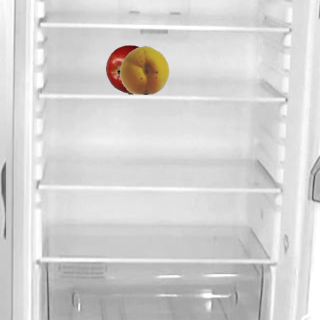Apple Braeburn: (105, 44, 155, 94)
Peach 2: (119, 44, 169, 94)
